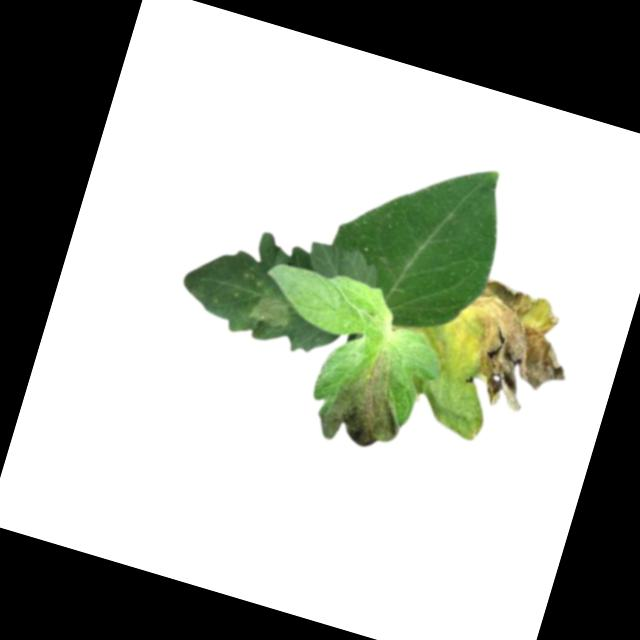Late_blight: (444, 274, 587, 424), (310, 337, 422, 461), (246, 289, 296, 330), (464, 416, 484, 443)
healthy: (315, 130, 520, 346)
